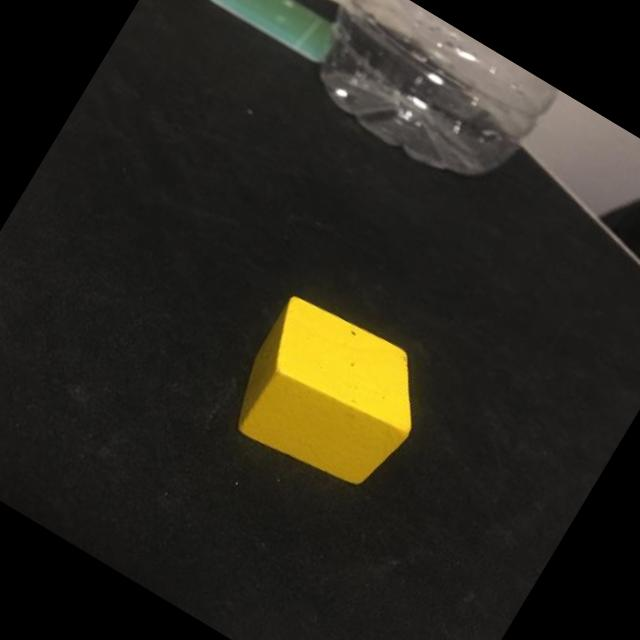yellow: (218, 286, 444, 504)
